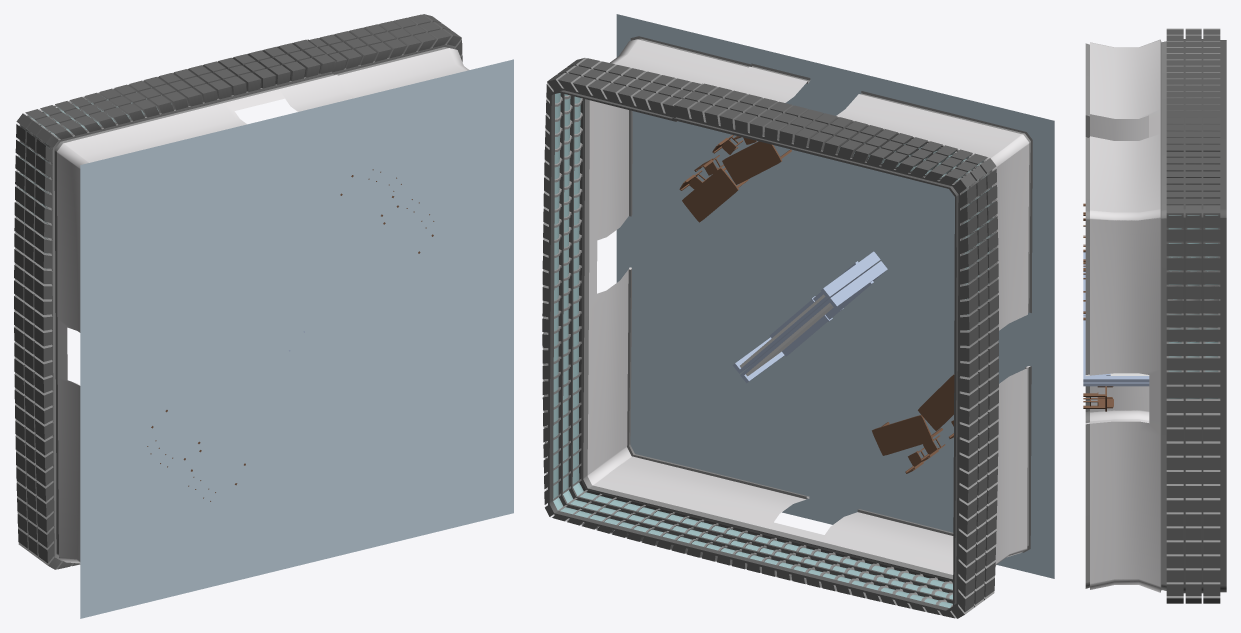
File: m_SmallRoom_4_NoDoors_Conference.fbx
3 views of the same model, side by side, from view 1: azimuth 30°, elevation 25°; view 2: azimuth 150°, elevation 25°; view 3: azimuth 270°, elevation 25° (orthographic). The views are drawn at different scales.
Visible parts, largest first — view 1: m_smallRoom001.003, Plane.009; view 2: m_smallRoom001.003, Plane.009, Cube.014, Cube.015, m_table.009, m_table.007, m_table.018, m_table.019; view 3: Plane.009, Cube.015, Cube.014, m_chair.043.
Part boxes in pixels (x1=…): m_smallRoom001.003: x1=80, y1=59, x2=513, y2=618; Plane.009: x1=14, y1=14, x2=469, y2=569; m_smallRoom001.003: x1=616, y1=14, x2=1054, y2=578; Plane.009: x1=542, y1=36, x2=1032, y2=618; Cube.014: x1=740, y1=261, x2=887, y2=383; Cube.015: x1=733, y1=251, x2=880, y2=373; m_table.009: x1=872, y1=415, x2=942, y2=455; m_table.007: x1=682, y1=167, x2=748, y2=222; m_table.018: x1=722, y1=141, x2=791, y2=184; m_table.019: x1=918, y1=374, x2=954, y2=430; Plane.009: x1=1085, y1=28, x2=1226, y2=603; Cube.015: x1=1083, y1=252, x2=1149, y2=382; Cube.014: x1=1083, y1=382, x2=1149, y2=386; m_chair.043: x1=1083, y1=392, x2=1113, y2=408.
Size of the model in its own units: 1515 by 1515 by 478.
